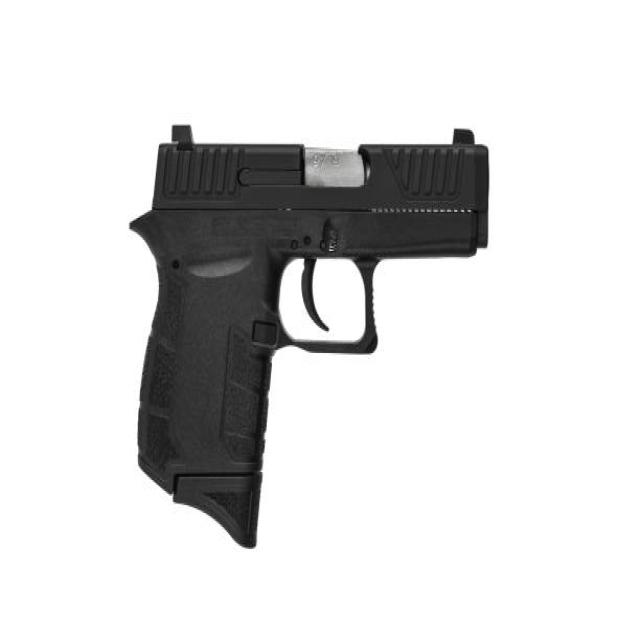pistol: (127, 116, 498, 559)
